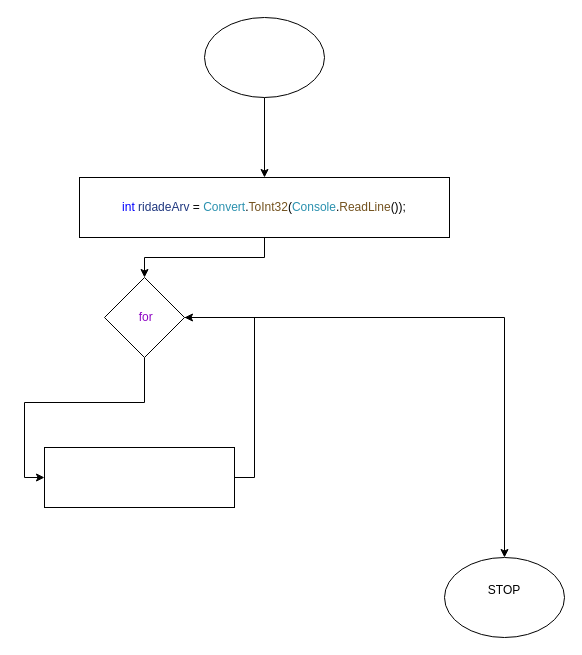
This 582x655 diagram has some shape labels left out. Here are the shapes that lost their labels. From the top down, the box of each, then its label:
(204, 16, 324, 98): START
(44, 446, 234, 508): Console . WriteLine ( "*" );
